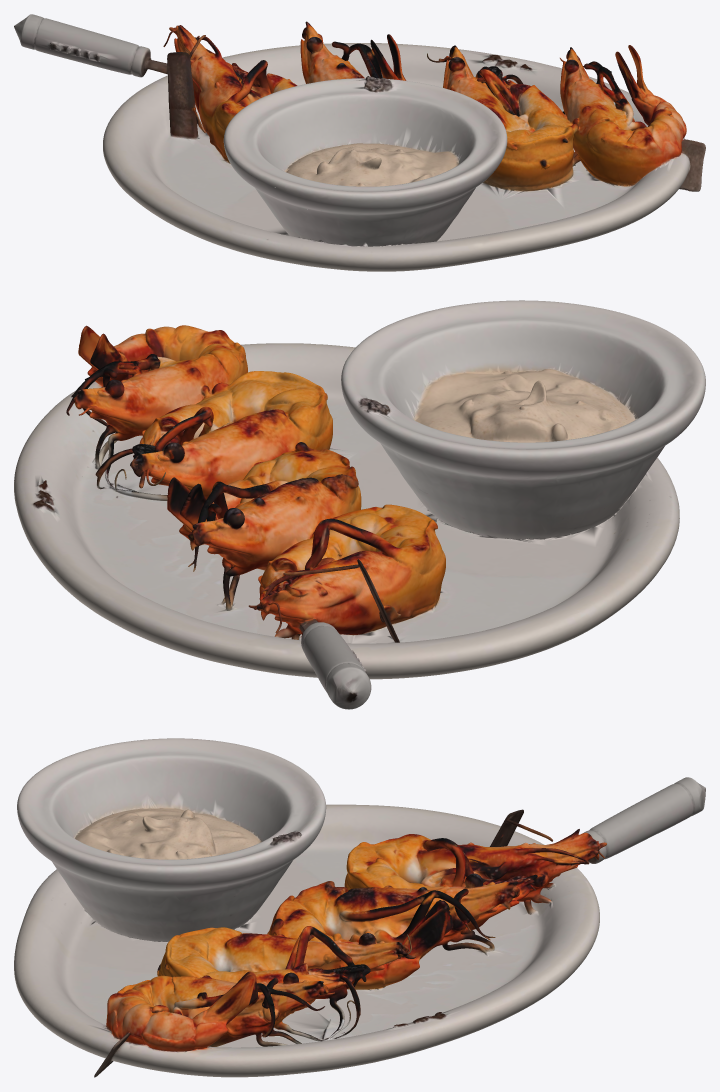
The model's file is aspas-camarao.glb.
3 renders of one model, top to bottom at view 1: azimuth 30°, elevation 25°; view 2: azimuth 150°, elevation 25°; view 3: azimuth 270°, elevation 25°, orthographic. The views are drawn at different scales.
Visible parts, largest first — view 1: tripo_node_40c56478-5970-40d6-b143-81b2f66d52b8; view 2: tripo_node_40c56478-5970-40d6-b143-81b2f66d52b8; view 3: tripo_node_40c56478-5970-40d6-b143-81b2f66d52b8.
Part boxes in pixels (x1,y1,x2,y2): tripo_node_40c56478-5970-40d6-b143-81b2f66d52b8: (14, 14, 705, 271); tripo_node_40c56478-5970-40d6-b143-81b2f66d52b8: (14, 300, 705, 709); tripo_node_40c56478-5970-40d6-b143-81b2f66d52b8: (14, 738, 705, 1077).
Size of the model in its own units: 0.2194 by 0.0509 by 0.2492.
1 material, 1 textured.
